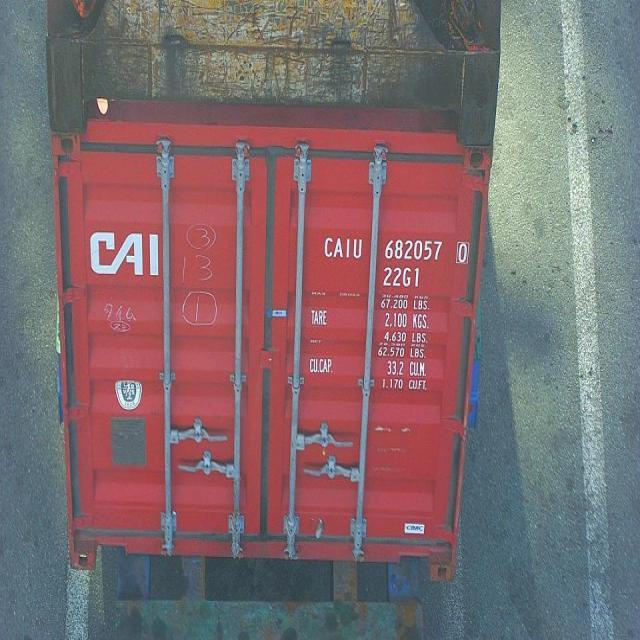ISO: (384, 266, 421, 288)
container_number: (326, 236, 472, 264)
